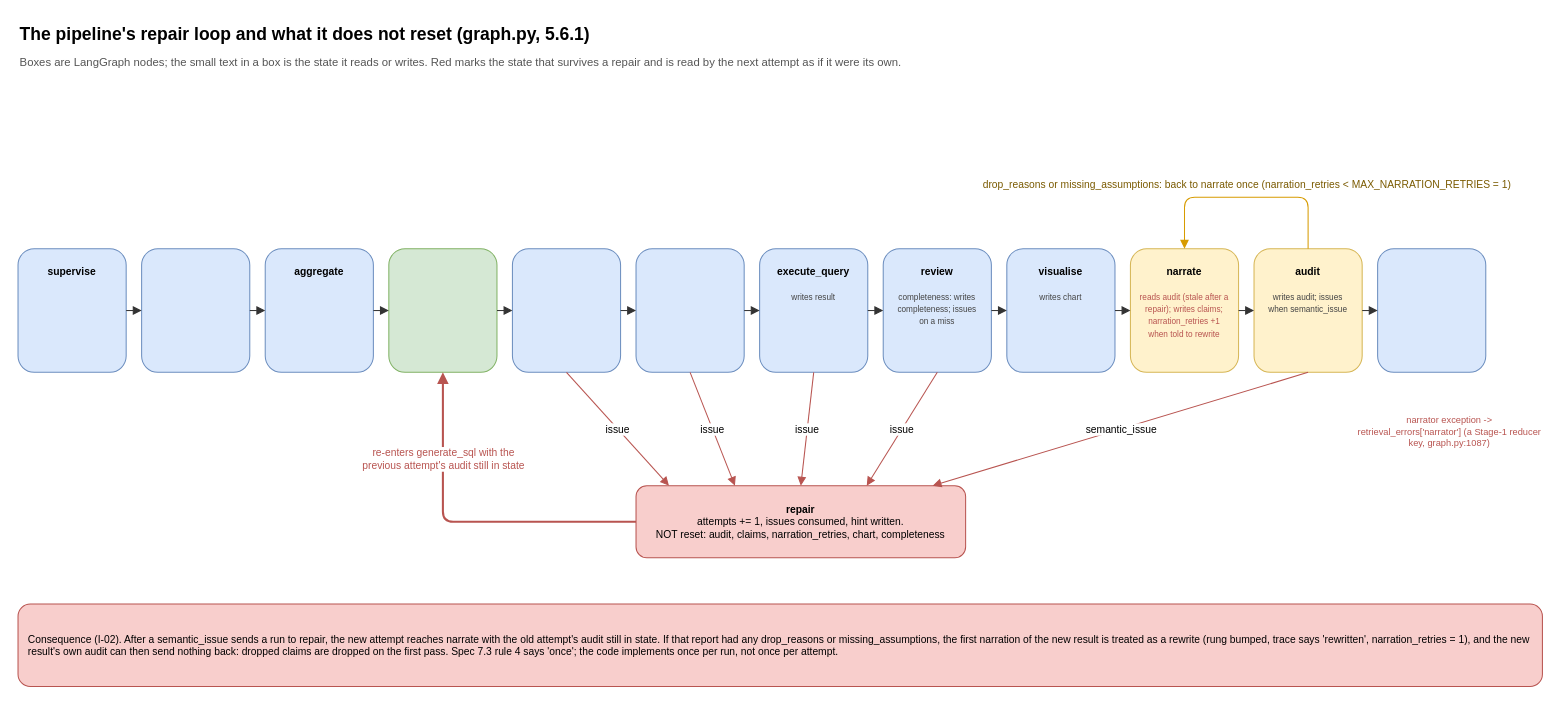
The diagram is 1560 pixels wide and 705 high, and some of its shapes have lost their labels. The centre of each missing label's shape, as x and y in pixels:
5 retrievers parallel superstep: (195,310)
finish reached when the audit passed or the one rewrite is spent: (1431,310)
generate_sql re-entered by repair: (442,310)
planner_gate issues on a miss: (689,310)
validate_static issues on a miss: (566,310)
